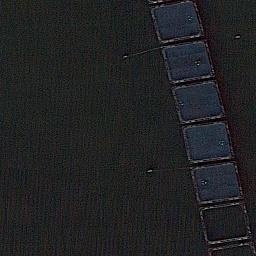square_locked: (169, 78, 228, 126), (159, 38, 217, 86), (187, 160, 245, 206), (197, 201, 253, 246), (149, 1, 206, 45), (180, 121, 235, 166)
